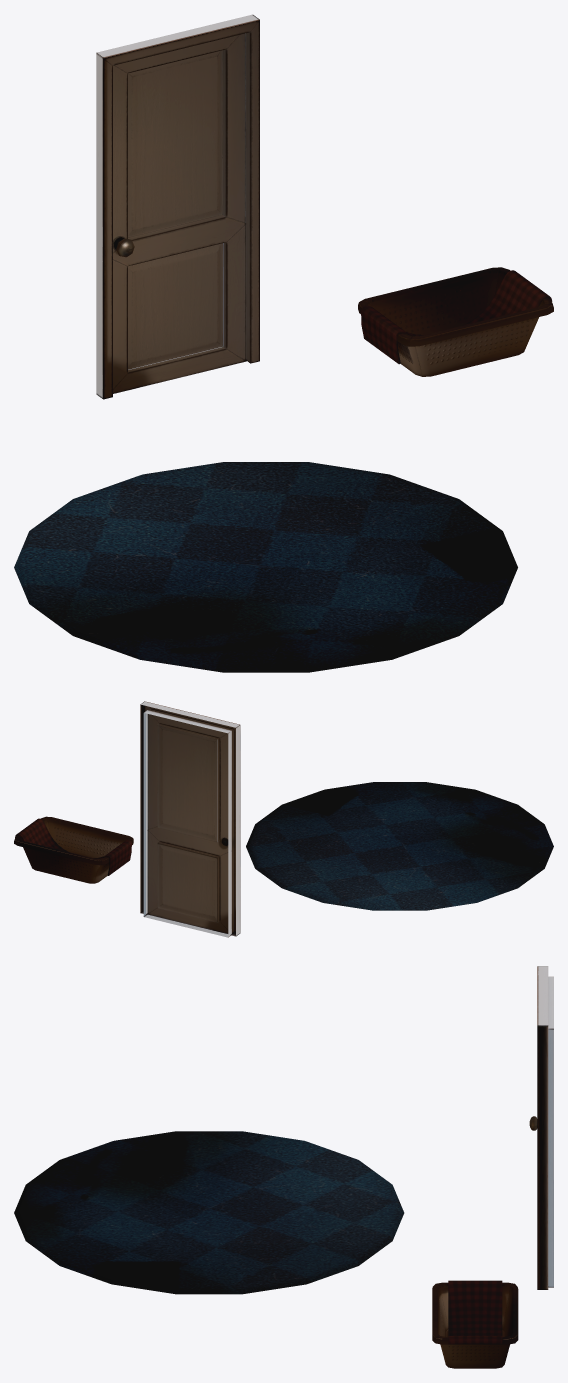
File: G2_SM_portetapispanier_combined.gltf
The picture shows the model from 3 angles, top to bottom: view 1: azimuth 30°, elevation 25°; view 2: azimuth 150°, elevation 25°; view 3: azimuth 270°, elevation 25°; orthographic projection. The views are drawn at different scales.
Visible parts, largest first — view 1: porte+tapis+panier; view 2: porte+tapis+panier; view 3: porte+tapis+panier.
Part boxes in pixels (x1=…): porte+tapis+panier: x1=14, y1=14, x2=553, y2=672; porte+tapis+panier: x1=14, y1=701, x2=553, y2=937; porte+tapis+panier: x1=14, y1=966, x2=553, y2=1368.
Size of the model in its own units: 3.34 by 1.67 by 3.08.
Materials: 1 (1 with a texture image).
